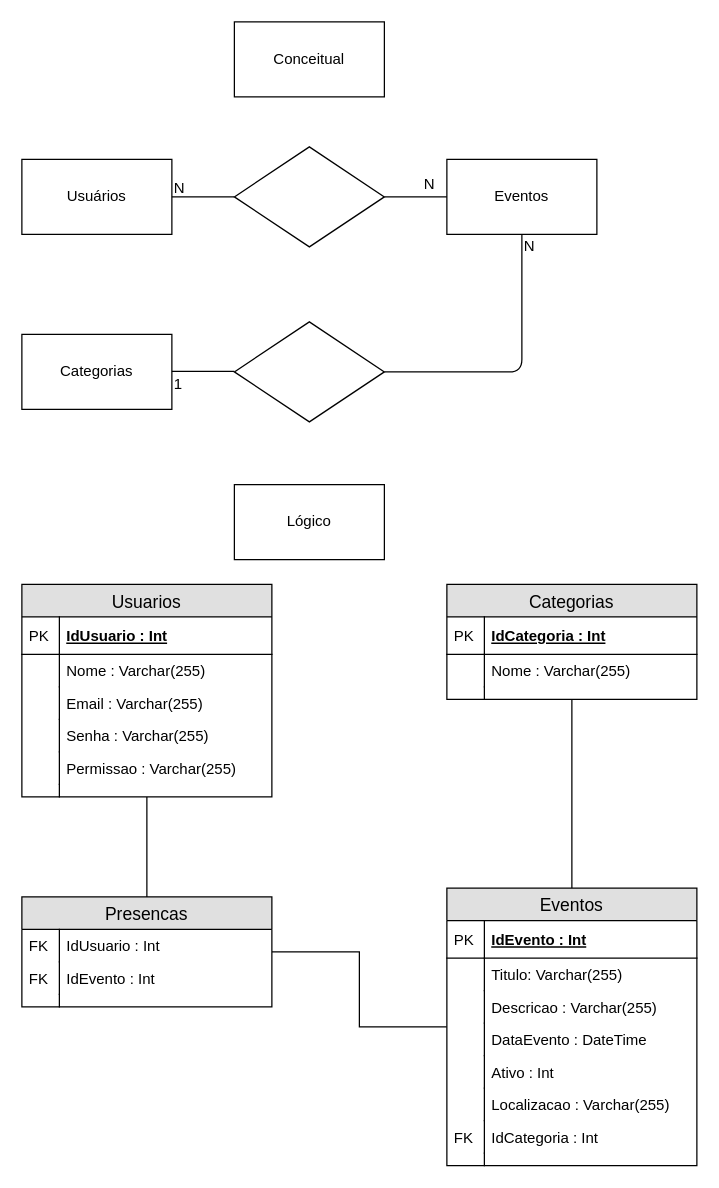
Image size: 719x1188. Some labels were removed from this diagram. The centre of each missing label's shape, as x and y in pixels:
Contem: the point at 308,371
Participa: the point at 308,196
